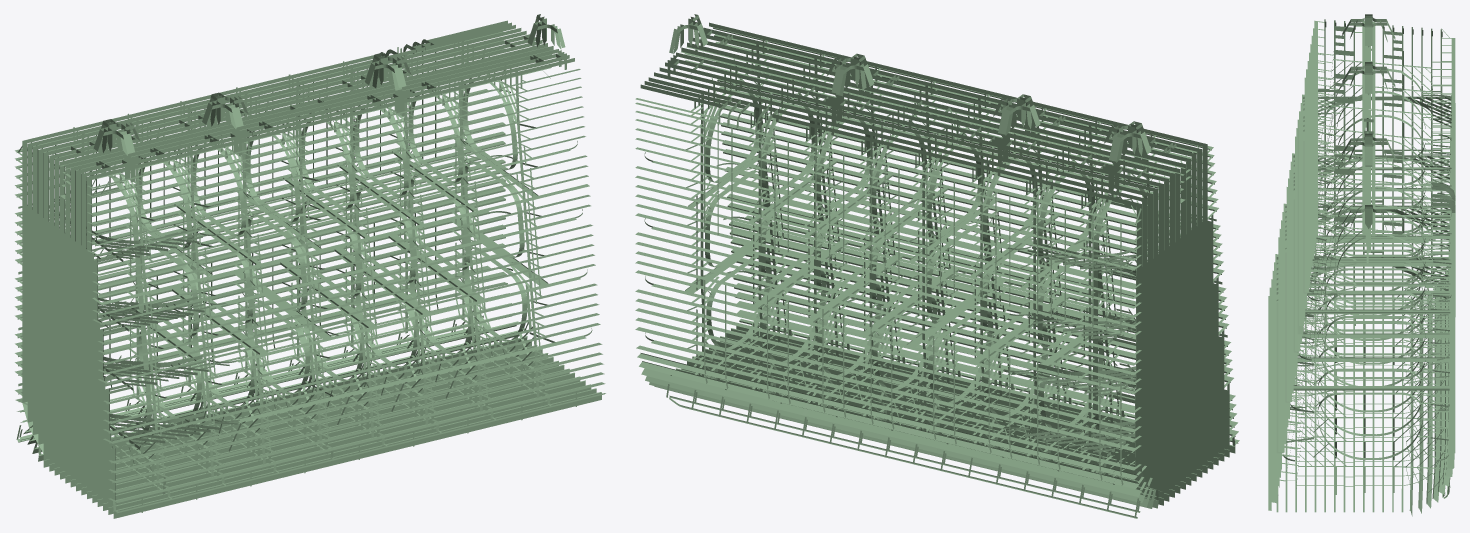
The model's file is NO_2_WING_WATER_BLT_TK_PS.glb.
The picture shows the model from 3 angles, left to right: view 1: azimuth 30°, elevation 25°; view 2: azimuth 150°, elevation 25°; view 3: azimuth 270°, elevation 25°; orthographic projection. The views are drawn at different scales.
Visible parts, largest first — view 1: no part large enough to name; view 2: no part large enough to name; view 3: ST_SideTransxFR87PxWeb_078002-TW_795x21+180x31_NVA_1993, ST_SideTransxFR88PxWeb_078002-TW_795x21+180x31_NVA_1993, ST_SideTransxFR84PxWeb_194002-TW_795x21+180x31_NVA_1993, ST_SideTransxFR88PxWeb_101002-TW_495x12+150x12_NVA_1993, ST_SideTransxFR89PxWeb_170002-TW_795x21+180x31_NVA_1993, ST_SideTransxFR89PxFLG_170002-TW_795x21+180x31_NVA_1993, ST_SideTransxFR87PxWeb_220002-TW_495x12+150x12_NVA_1993, ST_SideTransxFR83PxWeb_078002-TW_795x21+180x31_NVA_1993, ST_SideTransBHDxBHD85PxWeb_004002-TW_795x21+180x31_NVA_1993, ST_SideTransxFR86PxWeb_117002-TW_495x12+150x12_NVA_1993.
Part boxes in pixels (x1,y1,x2,y2): ST_SideTransxFR87PxWeb_078002-TW_795x21+180x31_NVA_1993: (1348, 334, 1449, 338); ST_SideTransxFR88PxWeb_078002-TW_795x21+180x31_NVA_1993: (1348, 358, 1449, 361); ST_SideTransxFR84PxWeb_194002-TW_795x21+180x31_NVA_1993: (1348, 263, 1449, 266); ST_SideTransxFR88PxWeb_101002-TW_495x12+150x12_NVA_1993: (1348, 284, 1450, 286); ST_SideTransxFR89PxWeb_170002-TW_795x21+180x31_NVA_1993: (1348, 386, 1449, 388); ST_SideTransxFR89PxFLG_170002-TW_795x21+180x31_NVA_1993: (1348, 388, 1449, 390); ST_SideTransxFR87PxWeb_220002-TW_495x12+150x12_NVA_1993: (1348, 260, 1450, 262); ST_SideTransxFR83PxWeb_078002-TW_795x21+180x31_NVA_1993: (1348, 239, 1428, 242); ST_SideTransBHDxBHD85PxWeb_004002-TW_795x21+180x31_NVA_1993: (1348, 290, 1449, 293); ST_SideTransxFR86PxWeb_117002-TW_495x12+150x12_NVA_1993: (1348, 236, 1450, 238).
Size of the model in its own units: 47.16 by 31.5 by 17.38.
